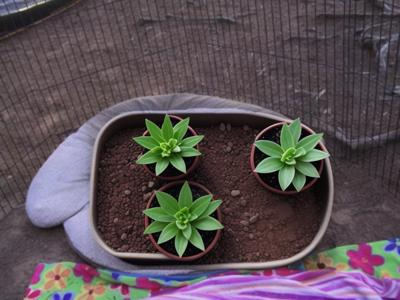pottedplant: (87, 113, 335, 269)
